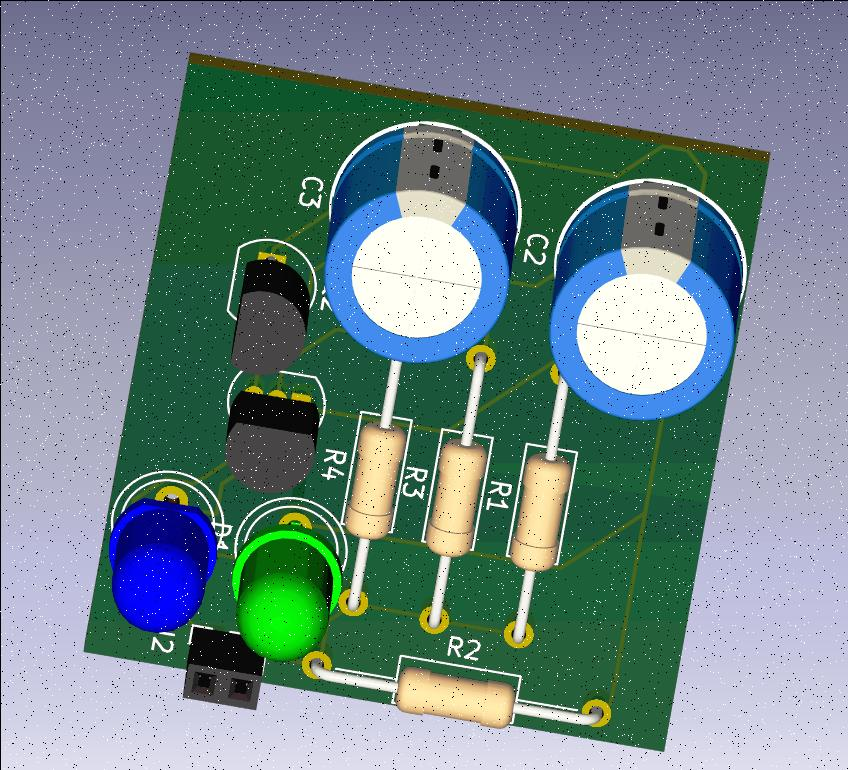blue_led: (109, 490, 218, 634)
capacitor: (326, 120, 520, 362), (547, 179, 745, 416)
green_led: (238, 518, 342, 661)
resistor: (346, 414, 416, 536), (506, 454, 574, 573), (423, 432, 489, 554), (394, 666, 516, 728), (508, 233, 558, 288)
transistor: (224, 370, 318, 494), (229, 253, 310, 374)
